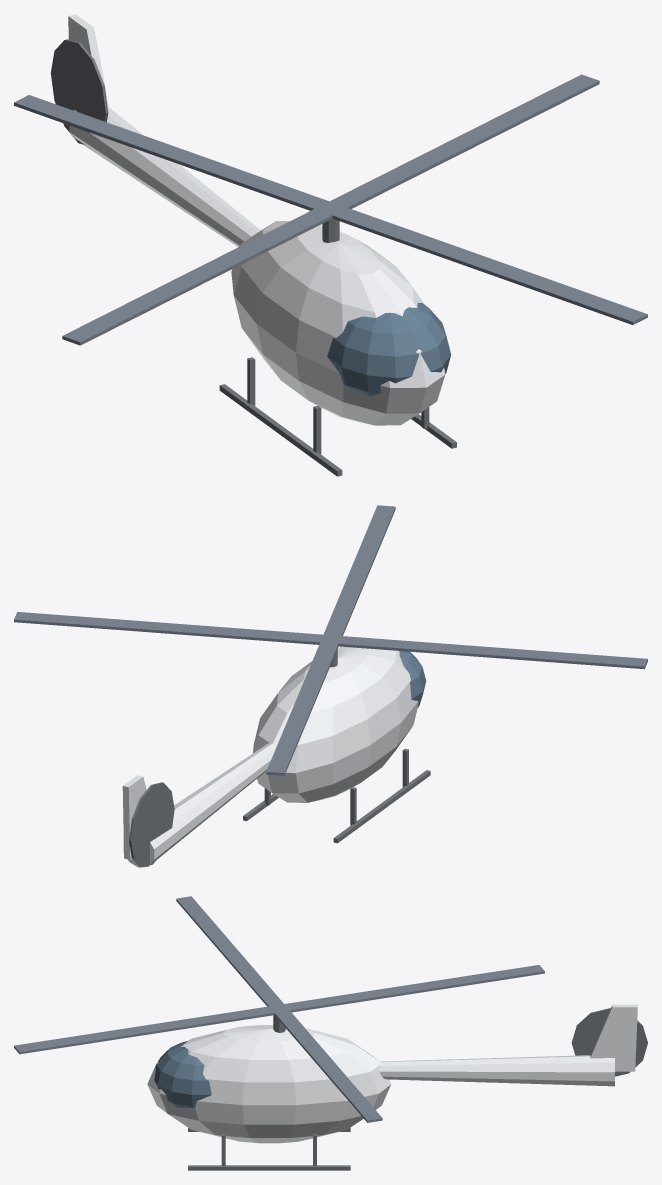
The model's file is synth_helicopter.glb.
3 views of the same model, one above another, from view 1: azimuth 30°, elevation 25°; view 2: azimuth 150°, elevation 25°; view 3: azimuth 270°, elevation 25° (orthographic). The views are drawn at different scales.
Bounding box in the file's own units: 10.45 × 3.14 × 12.47.
